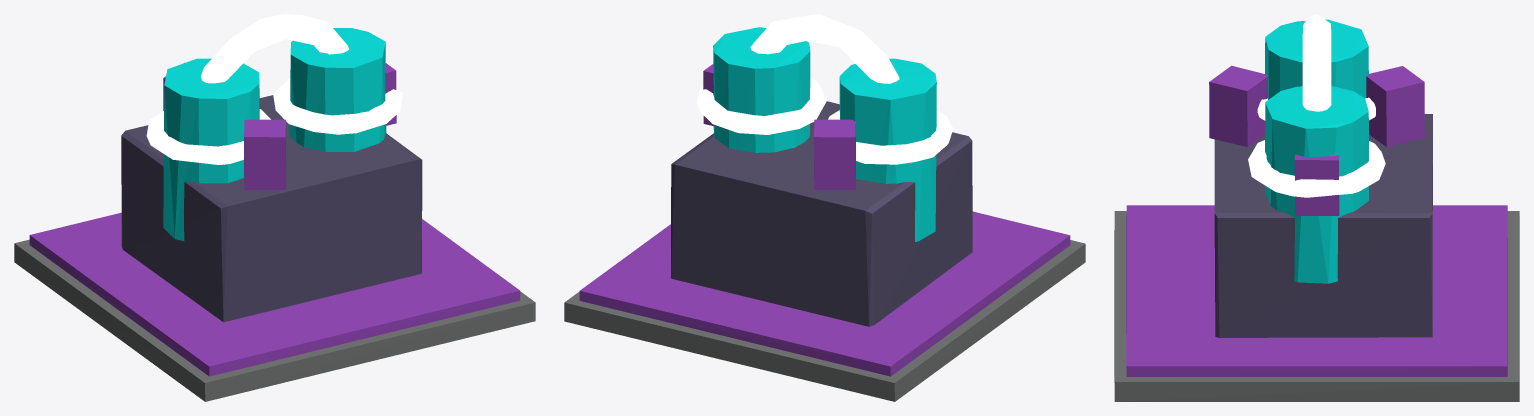
Rendered from SM_Chronolegion_CH_PowerPlant_LOD2.fbx.
3 views of the same model, side by side, from view 1: azimuth 30°, elevation 25°; view 2: azimuth 150°, elevation 25°; view 3: azimuth 270°, elevation 25° (orthographic). The views are drawn at different scales.
Visible parts, largest first — view 1: LOD02_SM_Chronolegion_CH_PowerPlant; view 2: LOD02_SM_Chronolegion_CH_PowerPlant; view 3: LOD02_SM_Chronolegion_CH_PowerPlant.
Boxes of the visible parts, x1,y1,x2,y2 form: LOD02_SM_Chronolegion_CH_PowerPlant: [14, 14, 535, 401]; LOD02_SM_Chronolegion_CH_PowerPlant: [564, 14, 1085, 401]; LOD02_SM_Chronolegion_CH_PowerPlant: [1114, 14, 1519, 401].
Size of the model in its own units: 597 by 597 by 475.
